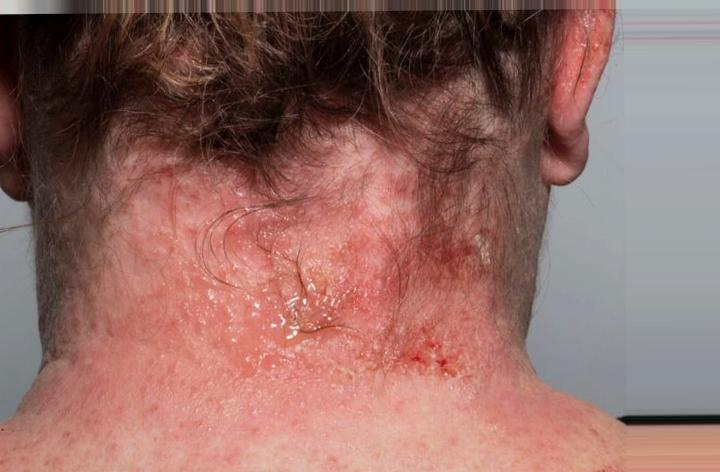Contact Dermatitis: (115, 112, 484, 392)
